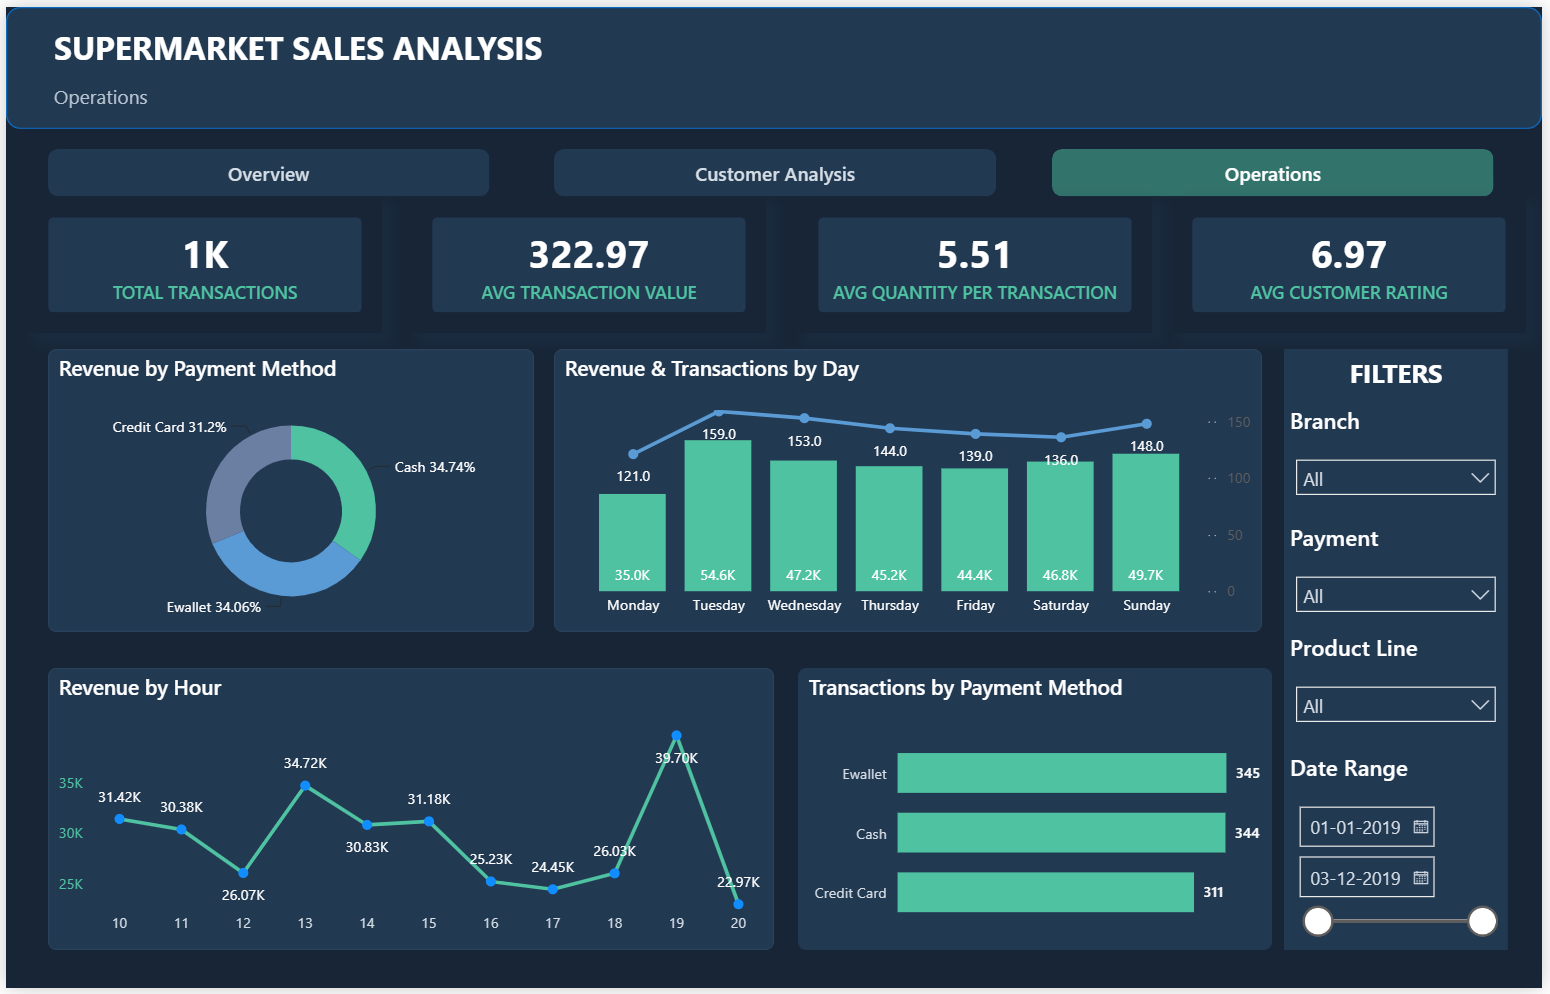

What the dashboard file says about the page in this screenshot:
{"tool":"powerbi","page":{"name":"Operations","canvas":[1280,817],"ordinal":2},"visuals":[{"type":"shape","box":[0,0,1280,101.6],"z":0},{"type":"textbox","box":[34.9,10.6,458,48.5],"z":1000},{"type":"textbox","box":[34.9,57.6,200.2,31.8],"z":2000},{"type":"actionButton","box":[34.9,118.3,368,39.4],"z":3000},{"type":"actionButton","box":[456.5,118.3,368.5,39.4],"z":4000},{"type":"actionButton","box":[872,118.3,368,39.4],"z":5000},{"type":"cardVisual","fields":{"Data":["supermarket_sales.Total Transactions"]},"box":[18.3,158.3,295,113.7],"z":6000},{"type":"cardVisual","fields":{"Data":["supermarket_sales.Average Transaction Value"]},"box":[338.3,158.3,295,113.7],"z":7000},{"type":"cardVisual","fields":{"Data":["Avg(supermarket_sales.quantity)"]},"box":[660,158.3,295,113.7],"z":8000},{"type":"cardVisual","fields":{"Data":["supermarket_sales.Overall Rating"]},"box":[971.7,158.3,295,113.7],"z":9000},{"type":"clusteredBarChart","title":"Transactions by Payment Method","fields":{"Category":["supermarket_sales.payment"],"Y":["supermarket_sales.Total Transactions"]},"box":[660,550,395,235],"z":11000},{"type":"donutChart","title":"Revenue by Payment Method","fields":{"Y":["supermarket_sales.Total Revenue"],"Category":["supermarket_sales.payment"]},"box":[35,285,405,235],"z":12000},{"type":"lineChart","title":"Revenue by Hour","fields":{"Y":["supermarket_sales.Total Revenue"],"Category":["supermarket_sales.hour"]},"box":[35,550,605,235],"z":13000},{"type":"shape","box":[1065,285,186.7,500],"z":14000},{"type":"lineClusteredColumnComboChart","title":"Revenue & Transactions by Day","fields":{"Y":["supermarket_sales.Total Revenue"],"Category":["supermarket_sales.day_name"],"Y2":["supermarket_sales.Total Transactions"]},"box":[456.7,285,590,235],"z":15000},{"type":"textbox","box":[1065,285,186.7,46.7],"z":16000},{"type":"slicer","title":"Payment","fields":{"Values":["supermarket_sales.payment"]},"box":[1065,428.3,186.7,83.3],"z":17000},{"type":"slicer","title":"Branch","fields":{"Values":["supermarket_sales.branch"]},"box":[1065,331.7,186.7,83.3],"z":18000},{"type":"slicer","title":"Product Line","fields":{"Values":["supermarket_sales.product_line"]},"box":[1065,520,186.7,85],"z":19000},{"type":"slicer","title":"Date Range","fields":{"Values":["supermarket_sales.date"]},"box":[1065,620,186.7,165],"z":20000}]}

Visuals, with their boxes in screenshot pixels (x1, y1, x2, y2), scaled from the page's 1280x817 canvas onto the 1550x994 screenshot:
shape: <box>0,0,1549,124</box>
textbox: <box>42,13,597,72</box>
textbox: <box>42,70,285,109</box>
actionButton: <box>42,144,488,192</box>
actionButton: <box>553,144,999,192</box>
actionButton: <box>1056,144,1502,192</box>
cardVisual - supermarket_sales.Total Transactions: <box>22,193,379,331</box>
cardVisual - supermarket_sales.Average Transaction Value: <box>410,193,767,331</box>
cardVisual - Avg(supermarket_sales.quantity): <box>799,193,1156,331</box>
cardVisual - supermarket_sales.Overall Rating: <box>1177,193,1534,331</box>
"Transactions by Payment Method" clusteredBarChart: <box>799,669,1278,955</box>
"Revenue by Payment Method" donutChart: <box>42,347,533,633</box>
"Revenue by Hour" lineChart: <box>42,669,775,955</box>
shape: <box>1290,347,1516,955</box>
"Revenue & Transactions by Day" lineClusteredColumnComboChart: <box>553,347,1267,633</box>
textbox: <box>1290,347,1516,404</box>
"Payment" slicer: <box>1290,521,1516,622</box>
"Branch" slicer: <box>1290,404,1516,505</box>
"Product Line" slicer: <box>1290,633,1516,736</box>
"Date Range" slicer: <box>1290,754,1516,955</box>
